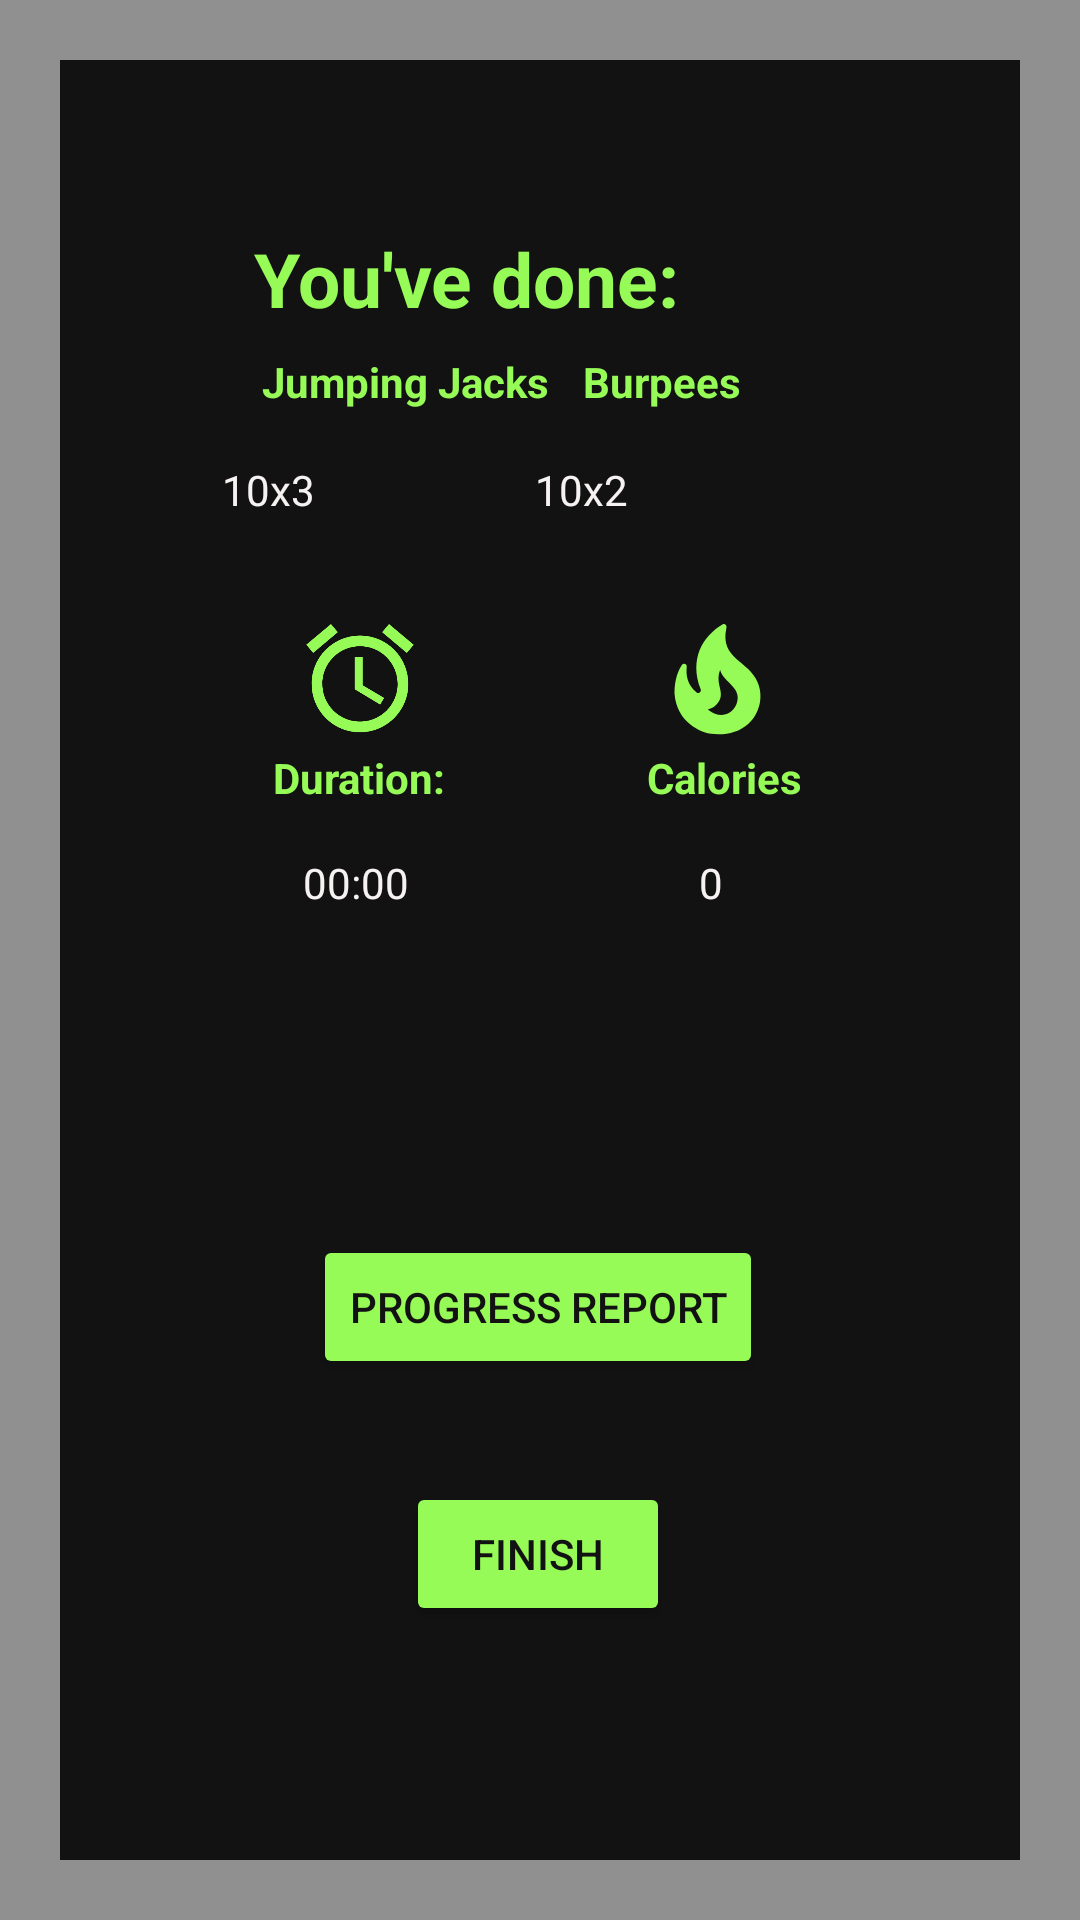

Locate icon controls on the screen. Image size 1080*1920, boxes as (x1, y1, x2, y2).
access alarm: (306, 624, 414, 732)
local fire department: (674, 624, 761, 735)
